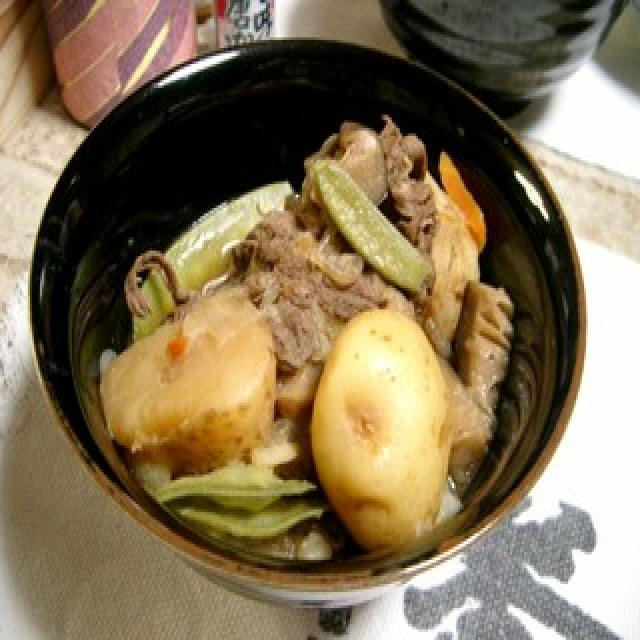牛肉菜式: (32, 42, 588, 586)
